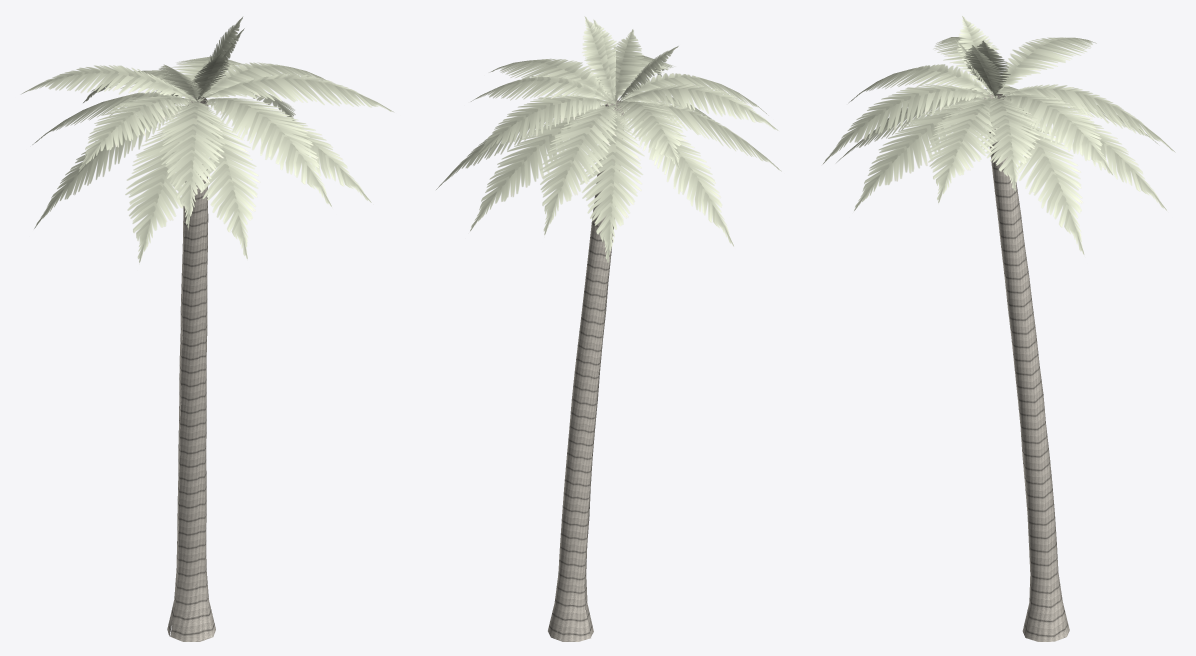
File: palm_c.glb
The picture shows the model from 3 angles, left to right: view 1: azimuth 30°, elevation 25°; view 2: azimuth 150°, elevation 25°; view 3: azimuth 270°, elevation 25°; orthographic projection. The views are drawn at different scales.
Parts seen in each view (by area): view 1: palm_c; view 2: palm_c; view 3: palm_c.
Boxes of the visible parts, left/top/right/bottom form: palm_c: left=21, top=16, right=394, bottom=641; palm_c: left=436, top=16, right=781, bottom=641; palm_c: left=822, top=16, right=1175, bottom=641.
Bounding box in the file's own units: 6.46 × 12.06 × 6.63.
2 materials, 2 textured.
